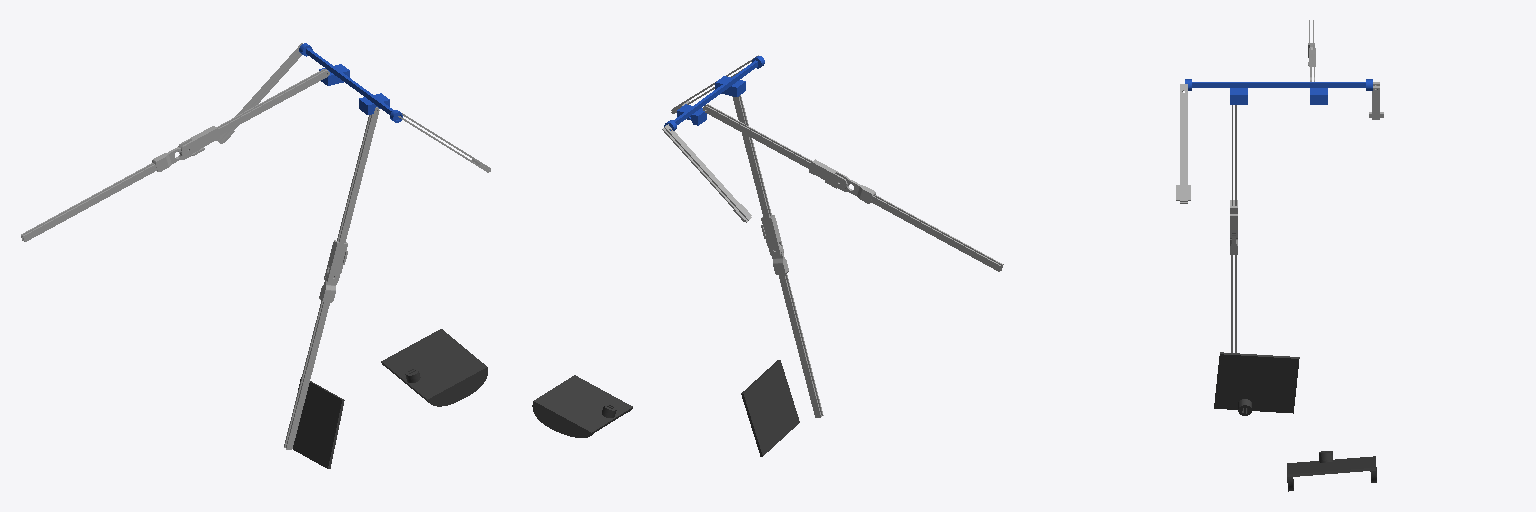
robot.urdf — pady:
<?xml version="1.0"?>
<!-- PaDy Bipedal Walker URDF
     ===================================================================
     MESH COORDINATE SYSTEM NOTE
     ===================================================================
     All STL files were exported from Fusion 360 as a single assembly in
     absolute CAD world coordinates (Y-up convention).  In the CAD frame:
       CAD X → URDF Y  (lateral, +left)
       CAD Y → URDF Z  (vertical, +up)
       CAD Z → URDF X  (sagittal, +forward)

     Every visual/collision <origin> therefore carries:
       rpy="1.5708 0 1.5708"   (Rx=90°, Rz=90° — maps CAD axes to URDF)
       xyz = −R · P_joint_cad  (cancels each joint's absolute CAD position)

     Joint positions read from STL bounding boxes (mm, CAD frame):
       base_link origin : (0,    1018, 0)
       hip joints       : (±107.86, 1001, 0)   [+x = left, −x = right]
       knee joints      : (±107.86,  501, 0)
       foot joints      : (±107.86,    1, 20)  [20 mm forward in CAD Z]

     Hip / knee joint origins and limits define the kinematics and are
     correct — only the visual/collision origins needed fixing.

    Practical tuning map (edit in this file)
    ========================================
    - Foot cant: <joint name="foot_joint_*"> origin rpy roll values.
    - Contact grip/compliance: <gazebo reference="foot_*"> mu1/mu2/kp/kd.
    - Joint passivity/damping: <joint ...><dynamics damping="..."/>.
    - Mass/inertia distribution: each link <inertial> block.

    Runtime force/timing parameters are tuned in launch files, not here.
-->

<robot name="pady">

  <!-- ═══════════════════════════════════════════════════════════════
       YAW ANCHOR — inertial reference for yaw correction
       ═══════════════════════════════════════════════════════════════
       Invisible link with high Izz (0.1 kg·m²) that resists yaw rotation.
       Connected to base_link via a revolute Z-joint with passive damping.
       The yaw_corrector node applies active correction through ApplyJointForce.
       The anchor becomes the model root (free body), base_link hangs below it.
       Mass is negligible (0.01 kg) so it doesn't affect translational dynamics.
       ═══════════════════════════════════════════════════════════════ -->
  <link name="yaw_anchor">
    <inertial>
      <mass value="0.0001"/>
      <!-- Near-zero inertia: anchor spins freely under reaction torque
           but base_link still receives full corrective torque from the joint.
           Triangle inequality: 0.0005+0.0005≥0.001 ✓
           Adds <8% to Ixx and <3% to Iyy of base_link. -->
      <inertia ixx="0.0005" ixy="0" ixz="0" iyy="0.0005" iyz="0" izz="0.001"/>
    </inertial>
  </link>

  <joint name="yaw_joint" type="revolute">
    <parent link="yaw_anchor"/>
    <child link="base_link"/>
    <axis xyz="0 0 1"/>
    <limit effort="100" lower="-3.14159" upper="3.14159" velocity="10.0"/>
    <dynamics damping="2.0" friction="0.0"/>
  </joint>

  <!-- ═══════════════════════════════════════════════════════════════
       BASE LINK  (hip / pelvis)
       ═══════════════════════════════════════════════════════════════ -->
  <link name="base_link">
    <visual>
      <!-- CAD origin (0,1018,0) mm → offset (0, 0, -1.018) m -->
      <origin xyz="1.042 0.037 -0.005" rpy="0 0 1.5708"/>
      <geometry>
        <mesh filename="package://pady_robot/meshes/visual/base_link.stl" scale="0.001 0.001 0.001"/>
      </geometry>
      <material name="blue"><color rgba="0.2 0.4 0.8 1.0"/></material>
    </visual>
    <collision>
      <origin xyz="1.042 0.037 -0.005" rpy="0 0 1.5708"/>
      <geometry>
        <mesh filename="package://pady_robot/meshes/visual/base_link.stl" scale="0.001 0.001 0.001"/>
      </geometry>
    </collision>
    <inertial>
      <mass value="1.600"/>
      <origin xyz="0 0 -0.015" rpy="0 0 0"/>
      <inertia ixx="0.00637" ixy="0.0" ixz="0.0" iyy="0.01990" iyz="0.0" izz="0.025"/>
    </inertial>
  </link>

  <!-- ═══════════════════════════════════════════════════════════════
       RIGHT LEG
       ═══════════════════════════════════════════════════════════════ -->

  <!-- Hip Joint Right – revolute, sagittal plane (Y-axis) -->
  <joint name="hip_joint_right" type="revolute">
    <parent link="base_link"/>
    <child link="thigh_right"/>
    <origin xyz="0 -0.10786 -0.017" rpy="0 0.28 0"/>
    <axis xyz="0 1 0"/>
    <limit effort="400" lower="-0.5418" upper="0.0418" velocity="10.0"/>
    <dynamics damping="0.001" friction="0.001"/>
  </joint>

  <link name="thigh_right">
    <visual>
      <!-- CAD joint (−107.86, 1001, 0) → offset (0, +0.10786, −1.001) -->
      <origin xyz="0 0.10786 -1.001" rpy="1.5708 0 1.5708"/>
      <geometry>
        <mesh filename="package://pady_robot/meshes/visual/thigh_right.stl" scale="0.001 0.001 0.001"/>
      </geometry>
      <material name="grey"><color rgba="0.7 0.7 0.7 1.0"/></material>
    </visual>
    <collision>
      <origin xyz="0 0.10786 -1.001" rpy="1.5708 0 1.5708"/>
      <geometry>
        <mesh filename="package://pady_robot/meshes/visual/thigh_right.stl" scale="0.001 0.001 0.001"/>
      </geometry>
    </collision>
    <inertial>
      <mass value="0.437"/>
      <origin xyz="0 0 -0.25" rpy="0 0 0"/>
      <inertia ixx="0.009162" ixy="0.0" ixz="0.0" iyy="0.009162" iyz="0.0" izz="0.000058"/>
    </inertial>
  </link>

  <!-- Knee Joint Right
       lower=0.0  → fully extended = LOCKED against hyperextension (stance phase)
       upper=1.1345 (~65°) → backward flexion via positive Y rotation (swing phase)
       axis "0 1 0": Rx(+) swings shin tip in −X (backward) = correct knee flexion -->
  <!-- Knee Joint Right:
       lower=0.0 → hyperextension blocked (acts as stance latch — no damping needed)
       Damping MUST be near-zero so the shin freely swings backward during swing
       phase (centripetal inertia lifts the foot). The constraint at lower=0 holds
       the leg straight during stance without needing high damping. -->

  <joint name="knee_joint_right" type="revolute">
    <parent link="thigh_right"/>
    <child link="shin_right"/>
    <origin xyz="0 0 -0.500" rpy="0 0 0"/>
    <axis xyz="0 1 0"/>
    <limit effort="100" lower="0.0" upper="1.1345" velocity="10.0"/>
    <!-- damping near-zero: knee swings freely; locking is done by knee_lock node -->
    <dynamics damping="0.0" friction="0.0001"/>
  </joint>

  <link name="shin_right">
    <visual>
      <!-- CAD joint (−107.86, 501, 0) → offset (0, +0.10786, −0.501) -->
      <origin xyz="0 0.10786 -0.501" rpy="1.5708 0 1.5708"/>
      <geometry>
        <mesh filename="package://pady_robot/meshes/visual/shin_right.stl" scale="0.001 0.001 0.001"/>
      </geometry>
      <material name="grey"/>
    </visual>
    <collision>
      <origin xyz="0 0.10786 -0.501" rpy="1.5708 0 1.5708"/>
      <geometry>
        <mesh filename="package://pady_robot/meshes/visual/shin_right.stl" scale="0.001 0.001 0.001"/>
      </geometry>
    </collision>
    <inertial>
      <mass value="0.350"/>
      <origin xyz="0 0 -0.25" rpy="0 0 0"/>
      <inertia ixx="0.007338" ixy="0.0" ixz="0.0" iyy="0.007338" iyz="0.0" izz="0.000047"/>
    </inertial>
  </link>

  <!-- Foot Joint Right – fixed, canted outward 0.20 rad (≈11.5°).
       Negative roll tilts the sole toward −Y (outer side). When standing on
       the right foot, contact is on the outer edge; the CoM is to the left
       of that edge, so the robot rocks rightward, lifting the left swing foot.
       This is the Collins 2001 lateral-clearance mechanism. -->
  <joint name="foot_joint_right" type="fixed">
    <parent link="shin_right"/>
    <child link="foot_right"/>
    <!-- Cant outward + foot centred under shin (0mm offset) to avoid toe drag -->
    <origin xyz="0.0 0 -0.500" rpy="-0.08 0.0 0.0"/>
  </joint>

  <link name="foot_right">
    <visual>
      <!-- rpy="0 0 4.71239" = Rz(-90°): CAD-X→-URDF-Y, CAD-Y→URDF-X, CAD-Z→URDF-Z
           xyz = -Rz(-90°) · P_joint/1000, P_joint=(-107.86, 1, 20)mm → (-0.001, -0.10786, -0.020) -->
      <origin xyz="0.1175 -0.1091 -0.020" rpy="0 0 4.71239"/>
      <geometry>
        <mesh filename="package://pady_robot/meshes/visual/right_foot.stl" scale="0.001 0.001 0.001"/>
      </geometry>
      <material name="dark_grey"><color rgba="0.3 0.3 0.3 1.0"/></material>
    </visual>
    <collision>
      <origin xyz="0.1175 -0.1091 -0.020" rpy="0 0 4.71239"/>
      <geometry>
        <mesh filename="package://pady_robot/meshes/visual/right_foot.stl" scale="0.001 0.001 0.001"/>
      </geometry>
    </collision>
    <inertial>
      <mass value="0.175"/>
      <origin xyz="0.040 0 -0.015" rpy="0 0 0"/>
      <inertia ixx="0.000118" ixy="0.0" ixz="0.0" iyy="0.000299" iyz="0.0" izz="0.000391"/>
    </inertial>
  </link>

  <!-- ═══════════════════════════════════════════════════════════════
       LEFT LEG
       ═══════════════════════════════════════════════════════════════ -->

  <!-- Hip Joint Left – revolute, sagittal plane (Y-axis) -->
  <joint name="hip_joint_left" type="revolute">
    <parent link="base_link"/>
    <child link="thigh_left"/>
    <origin xyz="0 0.10786 -0.017" rpy="0 -0.28 0"/>
    <axis xyz="0 1 0"/>
    <limit effort="400" lower="-0.0418" upper="0.5418" velocity="10.0"/>
    <dynamics damping="0.001" friction="0.001"/>
  </joint>

  <link name="thigh_left">
    <visual>
      <!-- CAD joint (+107.86, 1001, 0) → offset (0, −0.10786, −1.001) -->
      <origin xyz="0 -0.10786 -1.001" rpy="1.5708 0 1.5708"/>
      <geometry>
        <mesh filename="package://pady_robot/meshes/visual/thigh_left.stl" scale="0.001 0.001 0.001"/>
      </geometry>
      <material name="grey"/>
    </visual>
    <collision>
      <origin xyz="0 -0.10786 -1.001" rpy="1.5708 0 1.5708"/>
      <geometry>
        <mesh filename="package://pady_robot/meshes/visual/thigh_left.stl" scale="0.001 0.001 0.001"/>
      </geometry>
    </collision>
    <inertial>
      <mass value="0.437"/>
      <origin xyz="0 0 -0.25" rpy="0 0 0"/>
      <inertia ixx="0.009162" ixy="0.0" ixz="0.0" iyy="0.009162" iyz="0.0" izz="0.000058"/>
    </inertial>
  </link>

  <!-- Knee Joint Left — no damping so the knee is fully passive during
       swing and stance (dynamics rely solely on mass distribution and contact) -->
  <joint name="knee_joint_left" type="revolute">
    <parent link="thigh_left"/>
    <child link="shin_left"/>
    <origin xyz="0 0 -0.500" rpy="0 0 0"/>
    <axis xyz="0 1 0"/>
    <limit effort="100" lower="0.0" upper="1.1345" velocity="10.0"/>
    <!-- damping near-zero: knee swings freely; locking is done by knee_lock node -->
    <dynamics damping="0.0" friction="0.0001"/>
  </joint>

  <link name="shin_left">
    <visual>
      <!-- CAD joint (+107.86, 501, 0) → offset (0, −0.10786, −0.501) -->
      <origin xyz="0 -0.10786 -0.501" rpy="1.5708 0 1.5708"/>
      <geometry>
        <mesh filename="package://pady_robot/meshes/visual/shin_left.stl" scale="0.001 0.001 0.001"/>
      </geometry>
      <material name="grey"/>
    </visual>
    <collision>
      <origin xyz="0 -0.10786 -0.501" rpy="1.5708 0 1.5708"/>
      <geometry>
        <mesh filename="package://pady_robot/meshes/visual/shin_left.stl" scale="0.001 0.001 0.001"/>
      </geometry>
    </collision>
    <inertial>
      <mass value="0.350"/>
      <origin xyz="0 0 -0.25" rpy="0 0 0"/>
      <inertia ixx="0.007338" ixy="0.0" ixz="0.0" iyy="0.007338" iyz="0.0" izz="0.000047"/>
    </inertial>
  </link>

  <!-- Foot Joint Left – mirror cant of right: +0.13 rad toward +Y (outer side) -->
  <joint name="foot_joint_left" type="fixed">
    <parent link="shin_left"/>
    <child link="foot_left"/>
    <!-- Cant outward + foot centred under shin (0mm offset) to avoid toe drag -->
    <origin xyz="0.0 0 -0.500" rpy="0.08 0.0 0.0"/>
  </joint>

  <link name="foot_left">
    <visual>
      <!-- rpy="0 0 4.71239" = Rz(-90°): xyz = -Rz(-90°) · P_joint/1000
           P_joint=(+107.86, 1, 20)mm → (-0.001, +0.10786, -0.020) -->
      <origin xyz="0.1175 0.1091 -0.020" rpy="0 0 4.71239"/>
      <geometry>
        <mesh filename="package://pady_robot/meshes/visual/left_foot.stl" scale="0.001 0.001 0.001"/>
      </geometry>
      <material name="dark_grey"/>
    </visual>
    <collision>
      <origin xyz="0.1175 0.1091 -0.020" rpy="0 0 4.71239"/>
      <geometry>
        <mesh filename="package://pady_robot/meshes/visual/left_foot.stl" scale="0.001 0.001 0.001"/>
      </geometry>
    </collision>
    <inertial>
      <mass value="0.175"/>
      <origin xyz="0.040 0 -0.015" rpy="0 0 0"/>
      <inertia ixx="0.000118" ixy="0.0" ixz="0.0" iyy="0.000299" iyz="0.0" izz="0.000391"/>
    </inertial>
  </link>
  
 <!-- ═══════════════════════════════════════════════════════════════════════
       ARM SYSTEM — passive counterswing arms
       ═══════════════════════════════════════════════════════════════════════
       Using CAD coordinate conversion:
       - CAD Y (vertical) → URDF z = -Py/1000
       - CAD X (lateral) → URDF y = -Px/1000  
       - CAD Z (sagittal) → URDF x = -Pz/1000
       
       Arm mesh centers (CAD): Right X≈-344mm, Left X≈+264mm, Y≈1035mm
       Hip joint position in URDF: y=±0.108m, z≈-1.0m (relative to base_link)
       ═══════════════════════════════════════════════════════════════════════ -->

  <!-- arm_joint_right: right hip position
       Joint RPY is pure Ry rotation to keep axis Y (lateral) → sagittal swing.
       Contralateral asymmetry: right arm pitched -140° (forward-down),
       left arm pitched -40° (backward-up) for counter-swing launch posture. -->
  <joint name="arm_joint_right" type="revolute">
    <parent link="base_link"/>
    <child link="arm_right"/>  
    <origin xyz="0.015 -0.2585 0.0065" rpy="0 -2.4508 0"/>
    <axis xyz="0 1 0"/>
    <limit effort="0" lower="-0.97" upper="1.53" velocity="8.0"/>
    <!-- Underdamped (ζ≈0.44): arms oscillate freely for counter-yaw swing.
         Critical damping ≈ 0.34 Nm·s/rad; 0.15 gives good oscillation. -->
    <dynamics damping="0.15" friction="0.0001"/>
  </joint>

  <link name="arm_right">
    <visual>
      <!-- New STL in local coords: axle hole at ~(0,3,280) mm.
           Standard CAD map rpy="1.5708 0 1.5708": STL(x,y,z)→joint(z,x,y)
           xyz = -R·P_axle = -(0.280, 0, 0.003) -->
      <origin xyz="-0.280 0 -0.003" rpy="1.5708 0 1.5708"/>
      <geometry>
        <mesh filename="package://pady_robot/meshes/visual/arm_right.stl" scale="0.001 0.001 0.001"/>
      </geometry>
      <material name="grey"/>
    </visual>
    <collision>
      <origin xyz="-0.280 0 -0.003" rpy="1.5708 0 1.5708"/>
      <geometry>
        <mesh filename="package://pady_robot/meshes/visual/arm_right.stl" scale="0.001 0.001 0.001"/>
      </geometry>
    </collision>
    <inertial>
      <mass value="0.300"/>
      <origin xyz="-0.140 0 0" rpy="0 0 0"/>
      <!-- Inertia scaled ×0.75 from previous (was 0.400 kg) for 0.300 kg arms. -->
      <inertia ixx="4.4e-5" ixy="0.0" ixz="0.0"
               iyy="1.97e-3" iyz="0.0"
               izz="2.00e-3"/>
    </inertial>
  </link>

  <!-- arm_joint_left: left hip position -->
  <joint name="arm_joint_left" type="revolute">
    <parent link="base_link"/>
    <child link="arm_left"/>
    <origin xyz="0.015 0.2585 0.0065" rpy="0 -0.6908 0"/>
    <axis xyz="0 1 0"/>
    <limit effort="0" lower="-1.53" upper="0.97" velocity="8.0"/>
    <!-- Underdamped (ζ≈0.44): arms oscillate freely for counter-yaw swing -->
    <dynamics damping="0.15" friction="0.0001"/>
  </joint>

  <link name="arm_left">
    <visual>
      <!-- Left STL body extends z=-280→+70 (opposite of right).
           Flip Rz: rpy="1.5708 0 -1.5708" so STL -z→+URDF x, making
           the body extend in -x (same as right arm child frame).
           Axle at STL(0,3,-280)→URDF(280,0,3)→offset (-0.280,0,-0.003) -->
      <origin xyz="-0.280 0 -0.003" rpy="1.5708 0 -1.5708"/>
      <geometry>
        <mesh filename="package://pady_robot/meshes/visual/arm_left.stl" scale="0.001 0.001 0.001"/>
      </geometry>
      <material name="grey"/>
    </visual>
    <collision>
      <origin xyz="-0.280 0 -0.003" rpy="1.5708 0 -1.5708"/>
      <geometry>
        <mesh filename="package://pady_robot/meshes/visual/arm_left.stl" scale="0.001 0.001 0.001"/>
      </geometry>
    </collision>
    <inertial>
      <mass value="0.300"/>
      <origin xyz="-0.140 0 0" rpy="0 0 0"/>
      <!-- Inertia scaled ×0.75 from previous (was 0.400 kg) for 0.300 kg arms. -->
      <inertia ixx="4.4e-5" ixy="0.0" ixz="0.0"
               iyy="1.97e-3" iyz="0.0"
               izz="2.00e-3"/>
    </inertial>
  </link>
  <!-- ═══════════════════════════════════════════════════════════════
       GAZEBO PROPERTIES
       ═══════════════════════════════════════════════════════════════ -->

  <!-- ApplyJointForce for gait kick — one <gazebo> element per plugin so both
       survive URDF→SDF conversion (parsers may drop duplicates in one block).
       Topics: /model/pady/joint/hip_joint_right/0/cmd_force  (gz.msgs.Double, Nm)
               /model/pady/joint/hip_joint_left/0/cmd_force
       Maintains last commanded force each step; send 0.0 to go passive. -->
  <!-- ApplyJointForce: topic must include the /0/ index used by the launch-file kick.
       Default topic omits it; explicitly setting it here ensures the two match. -->
  <gazebo>
    <plugin filename="gz-sim-apply-joint-force-system"
            name="gz::sim::systems::ApplyJointForce">
      <joint_name>yaw_joint</joint_name>
      <topic>/model/pady/joint/yaw_joint/0/cmd_force</topic>
    </plugin>
  </gazebo>
  <gazebo>
    <plugin filename="gz-sim-apply-joint-force-system"
            name="gz::sim::systems::ApplyJointForce">
      <joint_name>hip_joint_right</joint_name>
      <topic>/model/pady/joint/hip_joint_right/0/cmd_force</topic>
    </plugin>
  </gazebo>
  <gazebo>
    <plugin filename="gz-sim-apply-joint-force-system"
            name="gz::sim::systems::ApplyJointForce">
      <joint_name>hip_joint_left</joint_name>
      <topic>/model/pady/joint/hip_joint_left/0/cmd_force</topic>
    </plugin>
  </gazebo>
  <gazebo>
    <plugin filename="gz-sim-apply-joint-force-system"
            name="gz::sim::systems::ApplyJointForce">
      <joint_name>knee_joint_right</joint_name>
      <topic>/model/pady/joint/knee_joint_right/0/cmd_force</topic>
    </plugin>
  </gazebo>
  <gazebo>
    <plugin filename="gz-sim-apply-joint-force-system"
            name="gz::sim::systems::ApplyJointForce">
      <joint_name>knee_joint_left</joint_name>
      <topic>/model/pady/joint/knee_joint_left/0/cmd_force</topic>
    </plugin>
  </gazebo>

  <!-- optional body force plugin: world-level attachment so the system
       has access to the world context.  We attempt both ApplyLinkForce and
       ApplyLinkWrench; the one that exists in the current gz-sim build will
       consume the topic. -->
  <gazebo reference="world">
    <plugin filename="gz-sim-apply-link-force-system"
            name="gz::sim::systems::ApplyLinkForce">
      <link_name>base_link</link_name>
      <topic>/model/pady/link/base_link/0/cmd_force</topic>
    </plugin>
  </gazebo>
  <gazebo reference="world">
    <plugin filename="gz-sim-apply-link-wrench-system"
            name="gz::sim::systems::ApplyLinkWrench">
      <link_name>base_link</link_name>
      <topic>/model/pady/link/base_link/0/cmd_force</topic>
    </plugin>
  </gazebo>

  <!-- Foot contact model.
       Tune these values here when addressing slip/yaw/contact bounce. -->
  <gazebo reference="foot_right">
    <!-- Friction coefficients: higher values reduce lateral slip/yaw drift. -->
    <mu1>70.0</mu1>
    <mu2>70.0</mu2>
    <!-- Rubber-like contact: softer spring with higher damping to absorb impact. -->
    <kp>2500000.0</kp>
    <kd>18000.0</kd>
    <max_vel>0.05</max_vel>
    <min_depth>0.002</min_depth>
  </gazebo>

  <gazebo reference="foot_left">
    <mu1>70.0</mu1>
    <mu2>70.0</mu2>
    <kp>2500000.0</kp>
    <kd>18000.0</kd>
    <max_vel>0.05</max_vel>
    <min_depth>0.002</min_depth>
  </gazebo>

  <!-- Joint state publisher so Gazebo publishes joint angles to ROS -->
  <gazebo>
    <plugin filename="gz-sim-joint-state-publisher-system"
            name="gz::sim::systems::JointStatePublisher"/>
  </gazebo>

  <!-- Publish model world-pose so gait_analyser can read hip position + RPY -->
  <gazebo>
    <plugin filename="gz-sim-pose-publisher-system"
            name="gz::sim::systems::PosePublisher">
      <publish_model_pose>true</publish_model_pose>
      <publish_link_pose>false</publish_link_pose>
      <publish_nested_model_pose>false</publish_nested_model_pose>
      <use_pose_vector_msg>false</use_pose_vector_msg>
      <update_frequency>500</update_frequency>
    </plugin>
  </gazebo>

</robot>

--- Render facts (derived) ---
3 views of the same robot in one strip: view 1: azimuth 30°, elevation 25°; view 2: azimuth 150°, elevation 25°; view 3: azimuth 270°, elevation 25° (orthographic).
Robot: pady — 10 links, 9 joints (7 revolute, 2 fixed); root link yaw_anchor; default pose: all joints at 0.
Visible links, largest first — view 1: foot_left, foot_right, thigh_right, shin_left, thigh_left, shin_right, base_link, arm_left; view 2: foot_left, foot_right, shin_left, thigh_left, shin_right, thigh_right, base_link, arm_left; view 3: foot_right, base_link, foot_left, arm_right, shin_right.
Link boxes in pixels (<box>): foot_left: <box>381,329,487,406</box>; foot_right: <box>293,377,344,468</box>; thigh_right: <box>324,107,379,284</box>; shin_left: <box>21,147,204,241</box>; thigh_left: <box>178,69,329,156</box>; shin_right: <box>284,250,347,449</box>; base_link: <box>299,43,402,122</box>; arm_left: <box>217,43,302,143</box>; foot_left: <box>532,375,632,437</box>; foot_right: <box>741,360,799,456</box>; shin_left: <box>825,180,1003,271</box>; thigh_left: <box>703,104,849,189</box>; shin_right: <box>761,225,823,417</box>; thigh_right: <box>732,95,783,257</box>; base_link: <box>664,56,764,130</box>; arm_left: <box>662,124,751,222</box>; foot_right: <box>1214,352,1299,415</box>; base_link: <box>1185,79,1372,104</box>; foot_left: <box>1287,451,1376,491</box>; arm_right: <box>1176,84,1190,203</box>; shin_right: <box>1230,214,1237,352</box>.
Size in the robot's own frame: 1.41 by 0.557 by 1.07 metres.
9 mesh visuals loaded from 9 distinct referenced files (9 binary STL).
